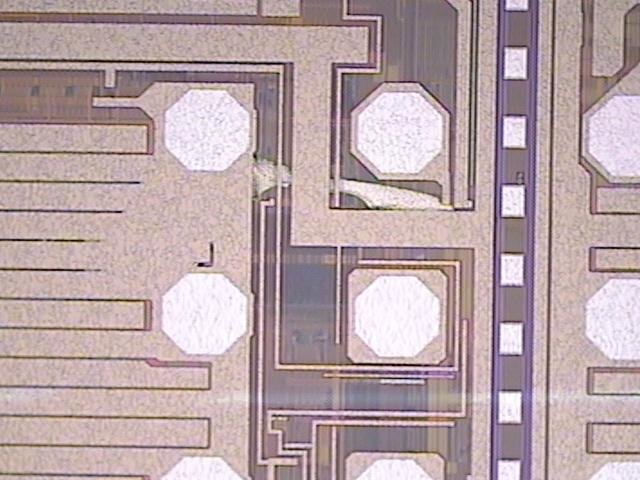COATING BAD: (241, 155, 464, 218)
